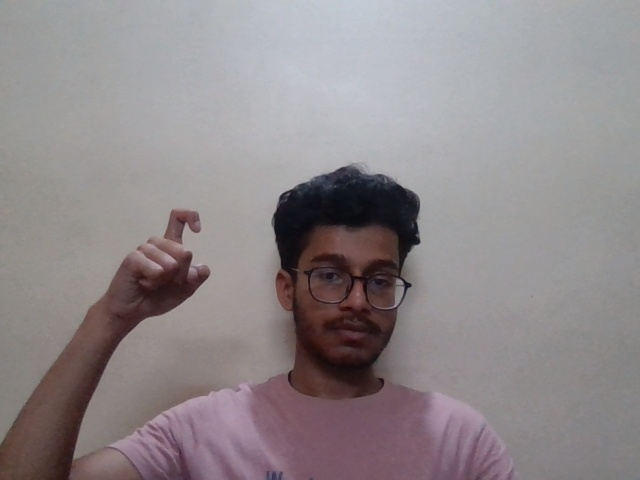Z: (107, 206, 233, 326)
